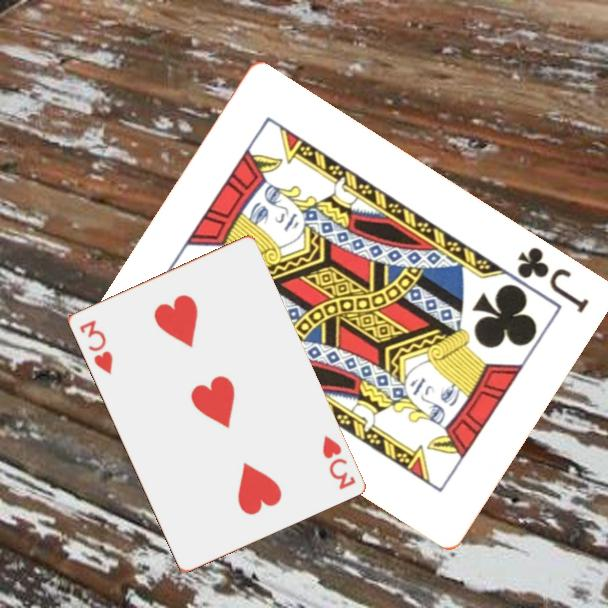c11: (512, 243, 592, 316)
h03: (318, 431, 358, 493), (75, 316, 115, 377)
